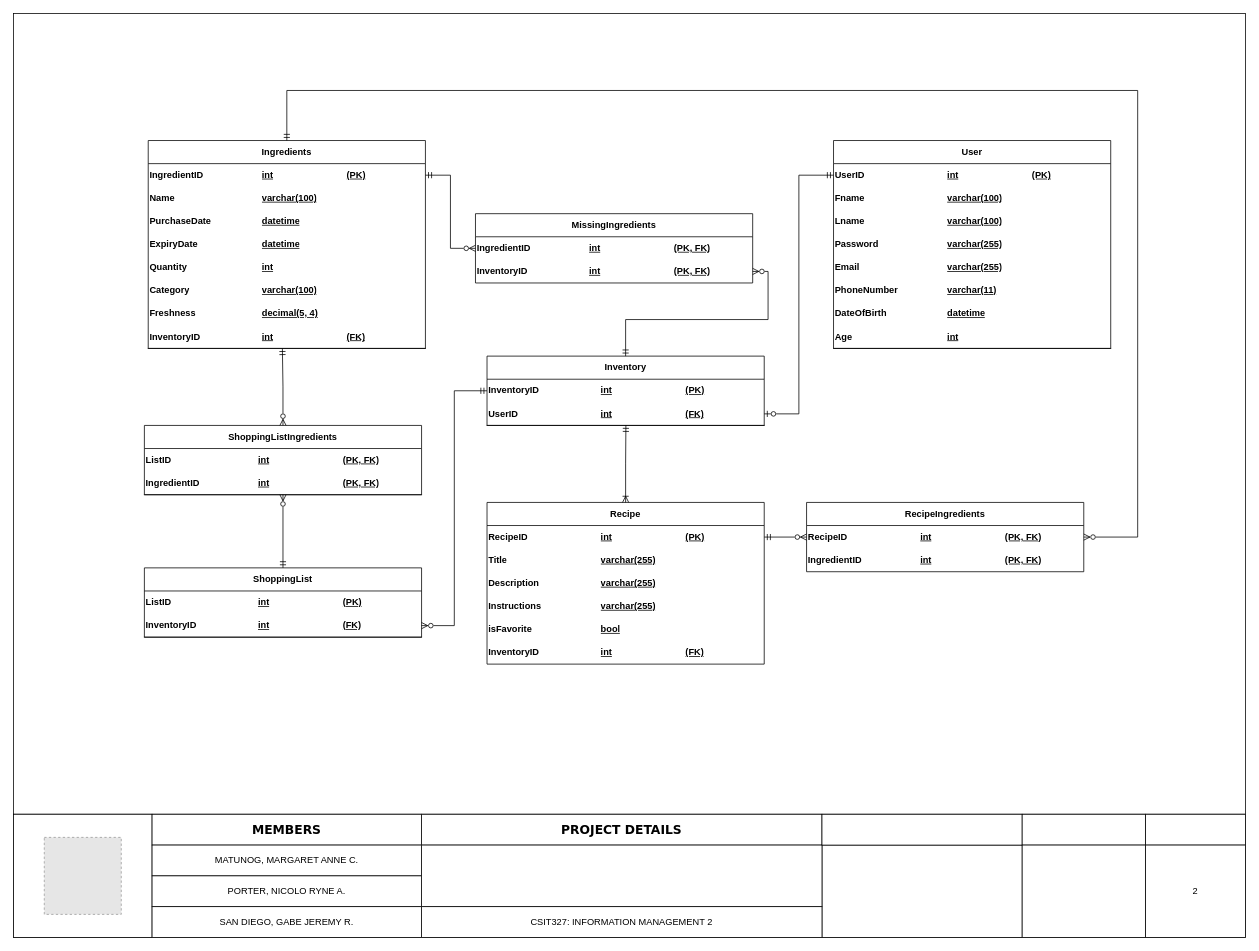
Image size: 1259x951. Some labels were removed from this diagram. Grey dashed boxes stand in for pictures. Each missing label, with the centre of its shape:
"DATE" goes at (x=1083, y=829).
"FOODGUARD: FOOD WASTE MANAGEMENT APPLICATION" goes at (x=621, y=875).
"INSTRUCTOR" goes at (x=921, y=829).
"REVILLEZA, FREDERICK JR." goes at (x=921, y=890).
"REVISION NO." goes at (x=1195, y=829).
"September 25, 2024" goes at (x=1083, y=890).
